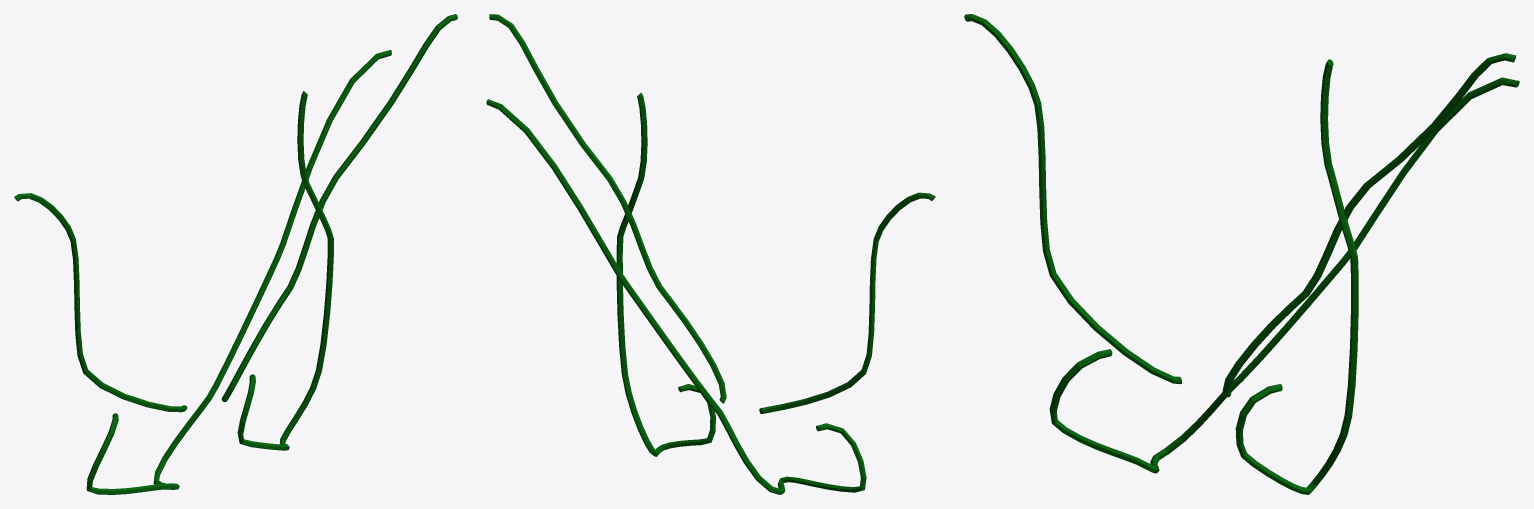
The model's file is SM_VineSet.001.fbx.
3 renders of one model, left to right at view 1: azimuth 30°, elevation 25°; view 2: azimuth 150°, elevation 25°; view 3: azimuth 330°, elevation 25°, orthographic. The views are drawn at different scales.
Visible parts, largest first — view 1: SM_VineSet_001; view 2: SM_VineSet_001; view 3: SM_VineSet_001.
Boxes of the visible parts, x1,y1,x2,y2 form: SM_VineSet_001: (14, 14, 457, 494); SM_VineSet_001: (486, 14, 935, 494); SM_VineSet_001: (964, 14, 1519, 494).
Bounding box in the file's own units: 55.48 × 327 × 286.
